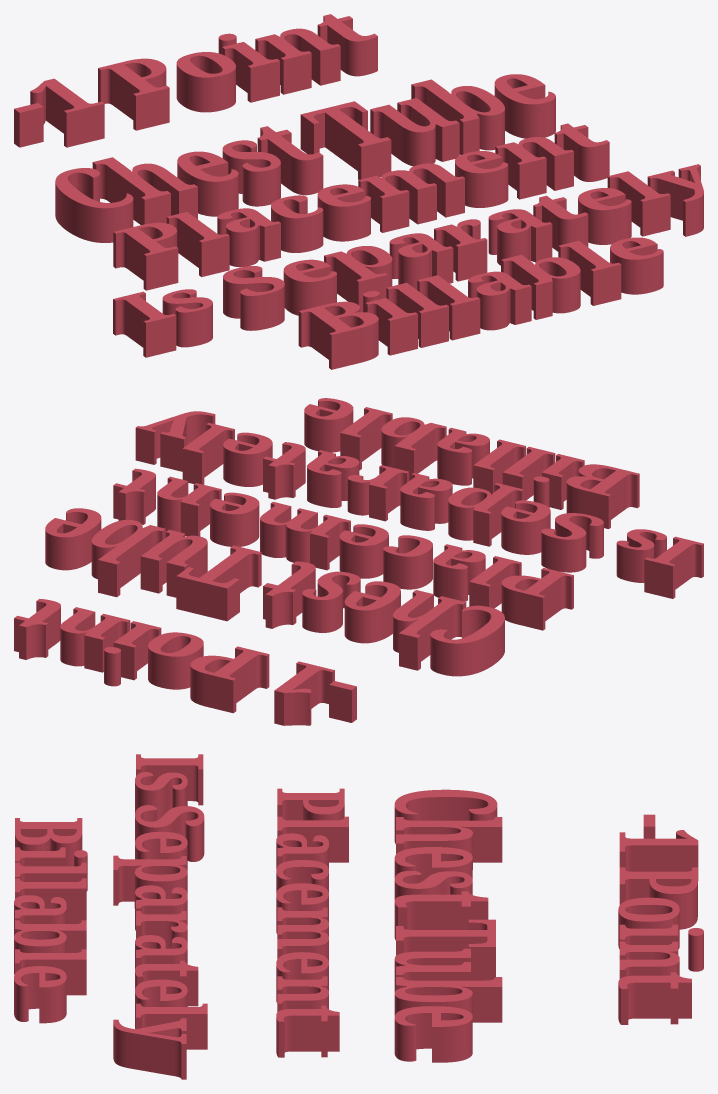
Rendered from nechest.gltf.
3 views of the same model, one above another, from view 1: azimuth 30°, elevation 25°; view 2: azimuth 150°, elevation 25°; view 3: azimuth 270°, elevation 25° (orthographic). The views are drawn at different scales.
Visible parts, largest first — view 1: Mesh_Mesh_head_geo001_lambert2SG001; view 2: Mesh_Mesh_head_geo001_lambert2SG001; view 3: Mesh_Mesh_head_geo001_lambert2SG001.
Part boxes in pixels (x1,y1,x2,y2): Mesh_Mesh_head_geo001_lambert2SG001: (14,14,703,369); Mesh_Mesh_head_geo001_lambert2SG001: (14,398,703,725); Mesh_Mesh_head_geo001_lambert2SG001: (14,754,703,1079).
Size of the model in its own units: 174 by 10 by 175.
